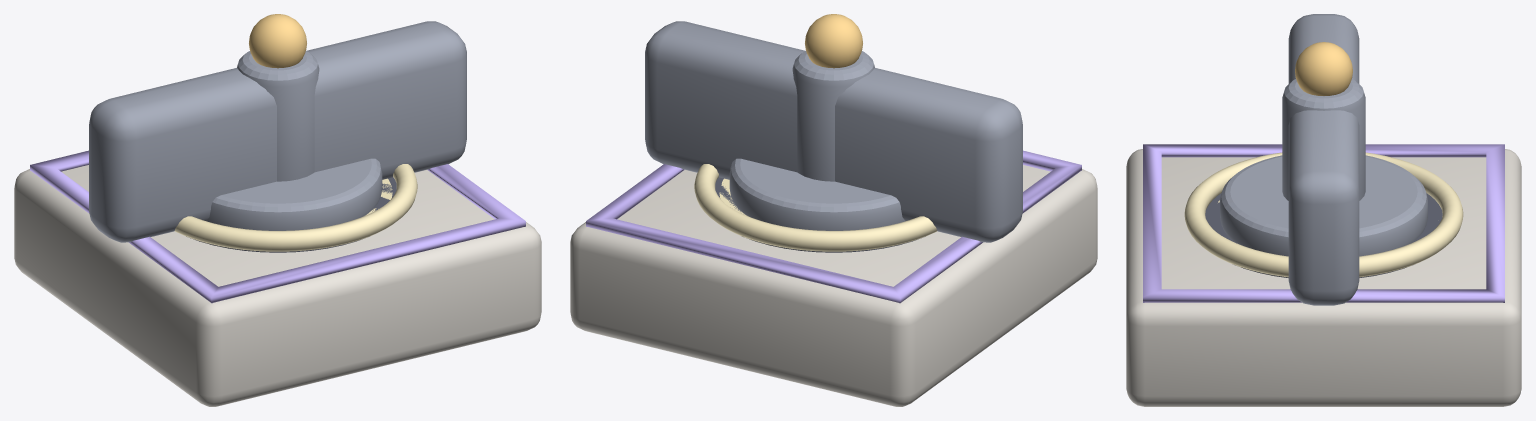
Rendered from kit.fbx.
The picture shows the model from 3 angles, left to right: view 1: azimuth 30°, elevation 25°; view 2: azimuth 150°, elevation 25°; view 3: azimuth 270°, elevation 25°; orthographic projection.
Visible parts, largest first — view 1: Tile, Wall, TileEdge, LeverBase, GoalRing, WallPost, LeverHandle, PlateRing; view 2: Tile, Wall, TileEdge, LeverBase, GoalRing, WallPost, LeverHandle, PlateRing; view 3: Tile, Wall, TileEdge, LeverBase, GoalRing, WallPost, LeverHandle, PlateRing.
Boxes of the visible parts, x1,y1,x2,y2 form: Tile: (14,165,541,406); Wall: (89,21,466,242); TileEdge: (30,150,525,303); LeverBase: (207,158,382,230); GoalRing: (174,164,417,251); WallPost: (237,51,319,181); LeverHandle: (249,14,306,68); PlateRing: (186,177,396,252); Tile: (570,165,1097,406); Wall: (645,21,1022,242); TileEdge: (586,150,1081,303); LeverBase: (729,158,904,230); GoalRing: (694,164,937,251); WallPost: (792,51,874,181); LeverHandle: (805,14,862,68); PlateRing: (715,177,925,252); Tile: (1126,149,1521,406); Wall: (1288,14,1359,305); TileEdge: (1143,144,1504,302); LeverBase: (1220,155,1427,256); GoalRing: (1184,152,1463,277); WallPost: (1282,79,1365,200); LeverHandle: (1295,42,1352,95); PlateRing: (1205,193,1442,277).
Bounding box in the file's own units: 2 × 1.51 × 1.9.
